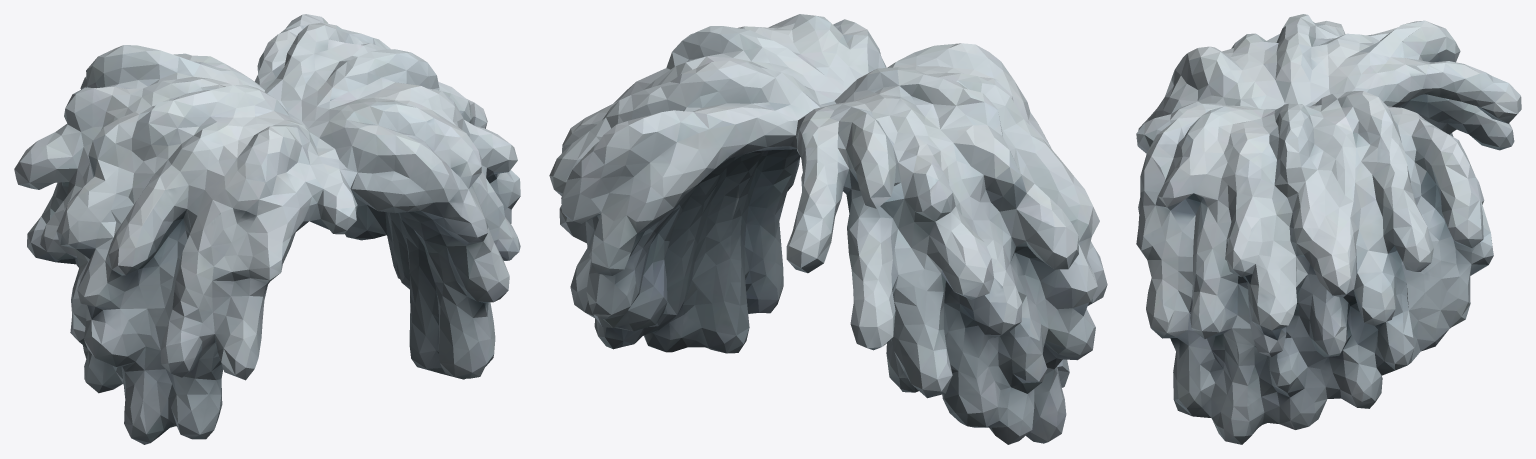
File: hairstyle_005.glb
3 renders of one model, left to right at view 1: azimuth 30°, elevation 25°; view 2: azimuth 150°, elevation 25°; view 3: azimuth 270°, elevation 25°, orthographic. The views are drawn at different scales.
Parts seen in each view (by area): view 1: geometry_0_005; view 2: geometry_0_005; view 3: geometry_0_005.
Boxes of the visible parts, x1,y1,x2,y2 form: geometry_0_005: (14, 14, 520, 444); geometry_0_005: (549, 14, 1107, 444); geometry_0_005: (1136, 14, 1521, 444).
Bounding box in the file's own units: 1.41 × 0.9896 × 1.11.
1 material, 1 textured.
